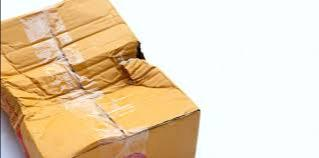damage_box: (0, 0, 201, 157)
